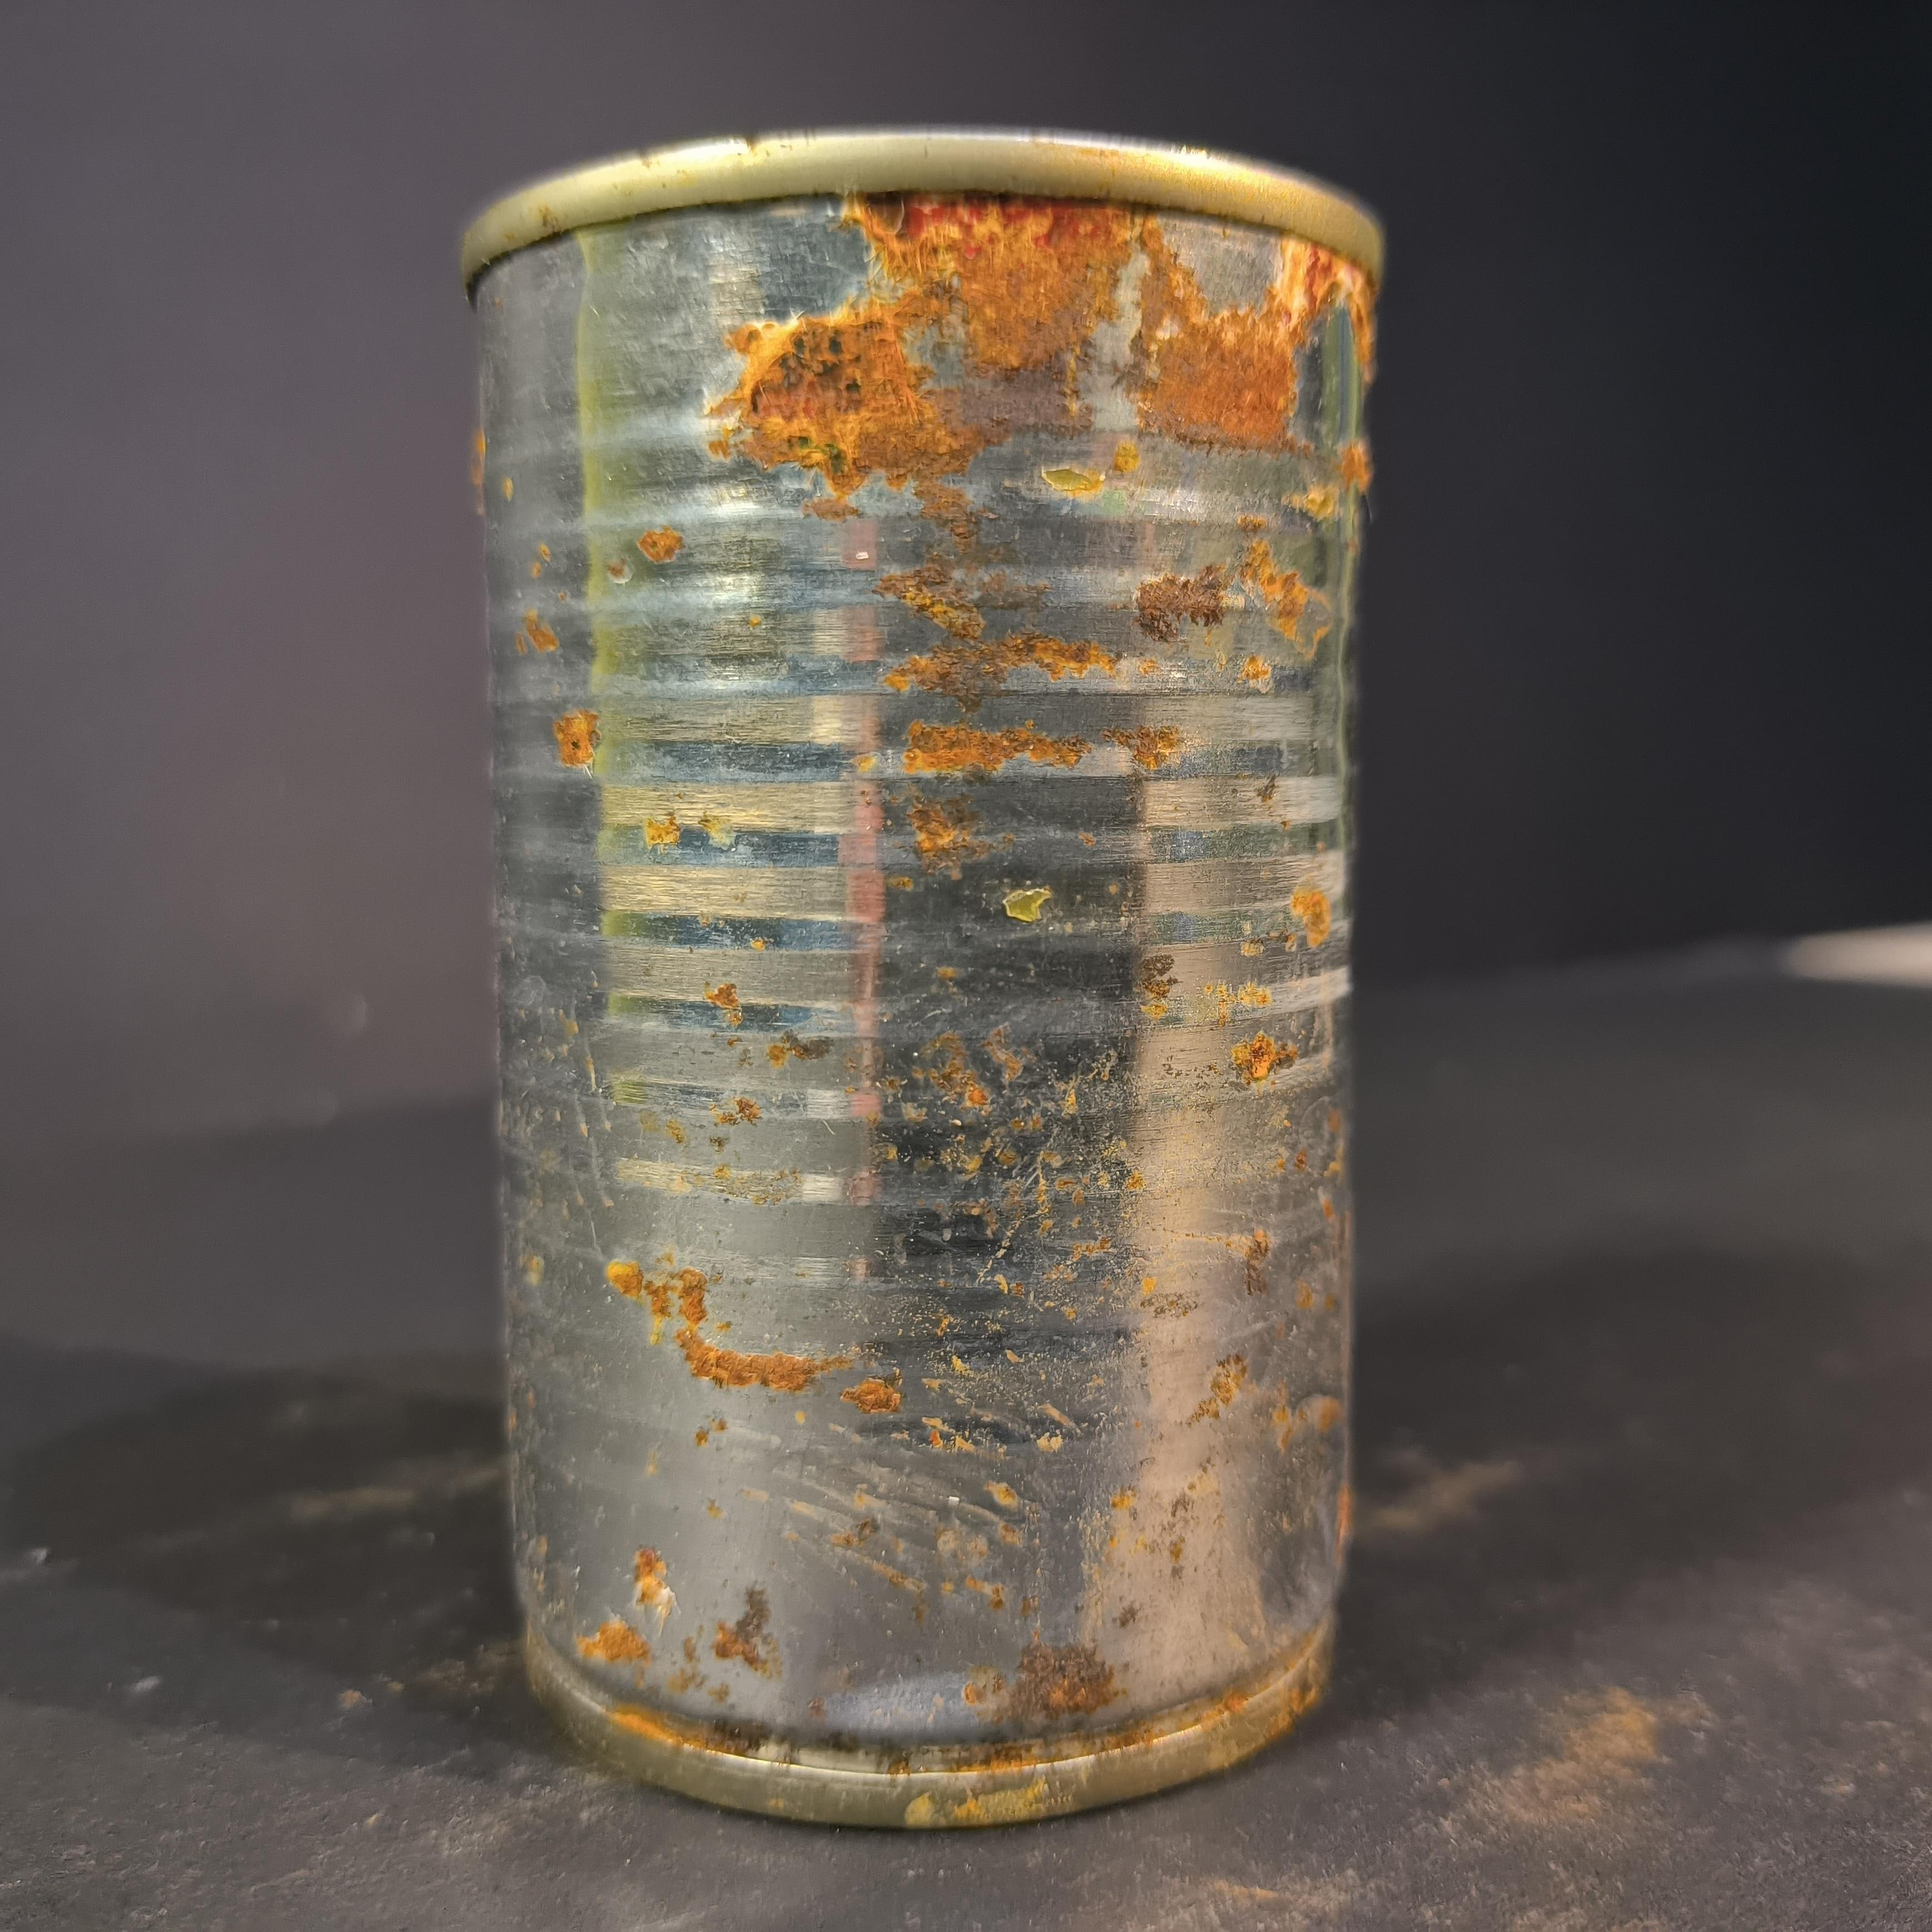Rusted: (442, 101, 1396, 1842)
